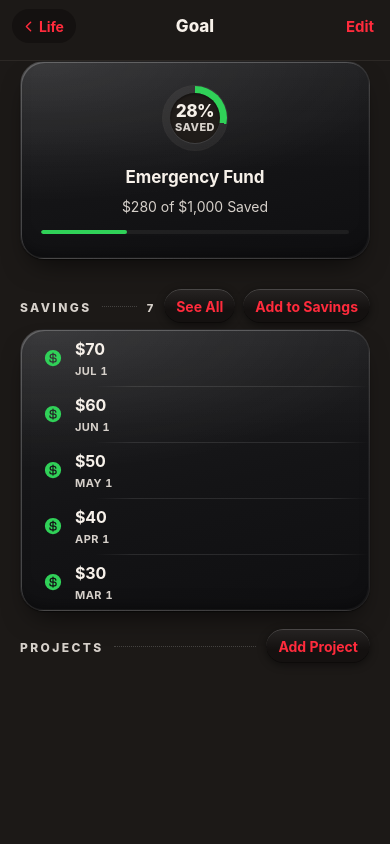
Scenario: the goal page: section actions live on the section head › a savings goal puts Add to Savings, and See All, on the Savings head; with nothing saved there is no card
expect the text "Savings" is shown: met, box [20, 300, 92, 315]
expect the element "Add to Savings" is shown: met, box [20, 289, 370, 323]
Step 1. Click the button "See All" → (200, 306), box [164, 289, 235, 323]
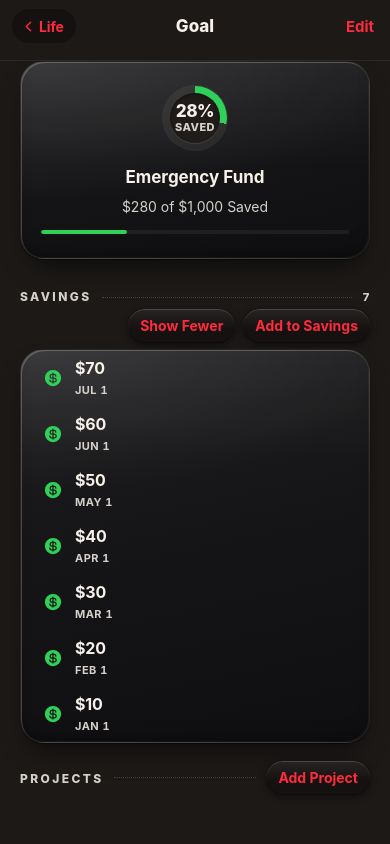
expect the button "Show Fewer" is shown: met, box [128, 309, 235, 343]
